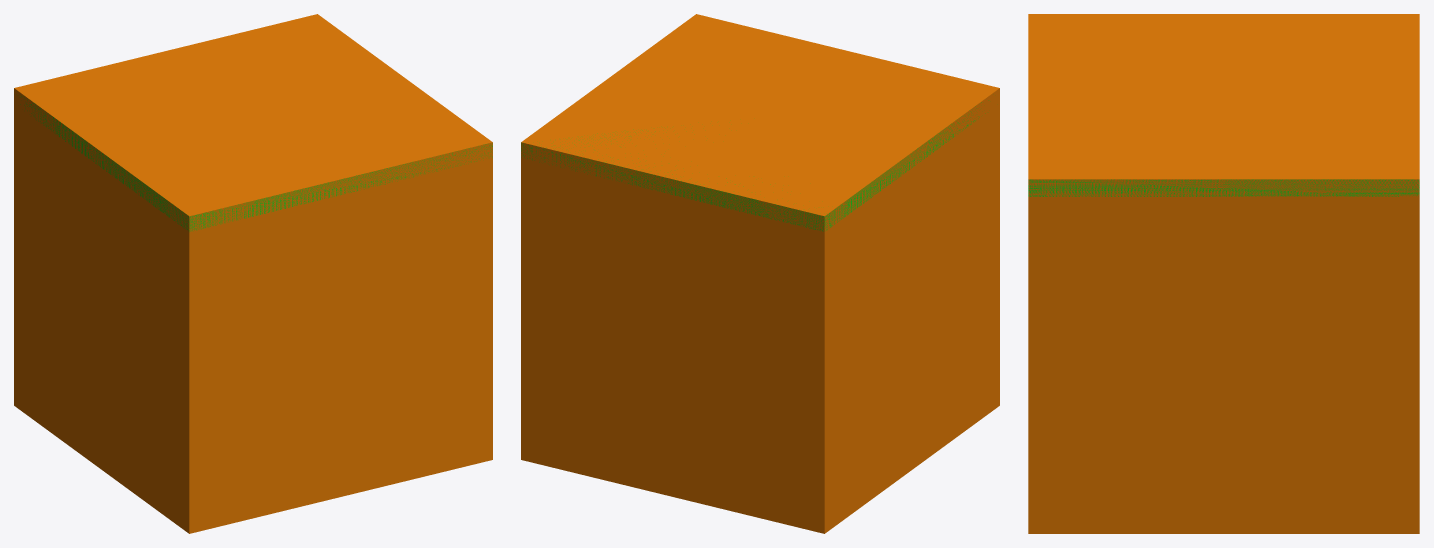
Rendered from crate_collisions.glb.
The picture shows the model from 3 angles, left to right: view 1: azimuth 30°, elevation 25°; view 2: azimuth 150°, elevation 25°; view 3: azimuth 270°, elevation 25°; orthographic projection. The views are drawn at different scales.
Visible parts, largest first — view 1: _Crate_1_Wall, _Crate_2_Floor; view 2: _Crate_1_Wall, _Crate_2_Floor; view 3: _Crate_1_Wall, _Crate_2_Floor.
Boxes of the visible parts, <box> form: _Crate_1_Wall: <box>14,14,492,533</box>; _Crate_2_Floor: <box>20,96,492,231</box>; _Crate_1_Wall: <box>521,14,999,533</box>; _Crate_2_Floor: <box>521,100,988,231</box>; _Crate_1_Wall: <box>1028,14,1419,533</box>; _Crate_2_Floor: <box>1028,179,1419,196</box>.
Size of the model in its own units: 1 by 1 by 1.
